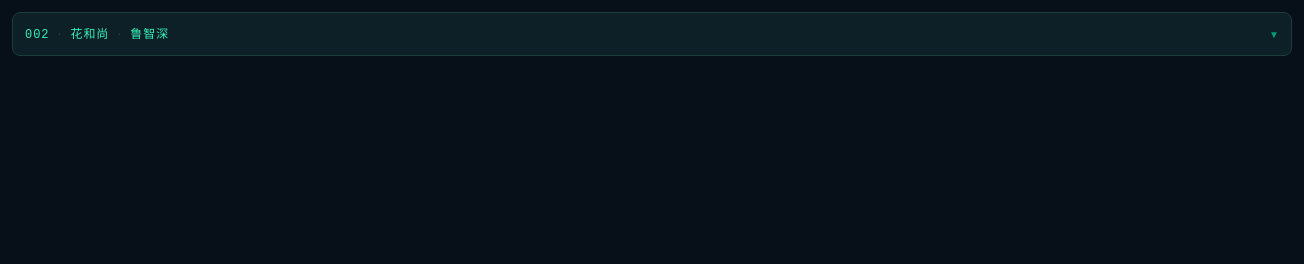
Test: CharacterListbox keyboard interaction › 可以按中文或拼音搜索卡片
The width and height of the screenshot is (1304, 264).
Step 1. Click the button with aria-label "选择卡片" → point(90, 34), box [12,12,1292,56]
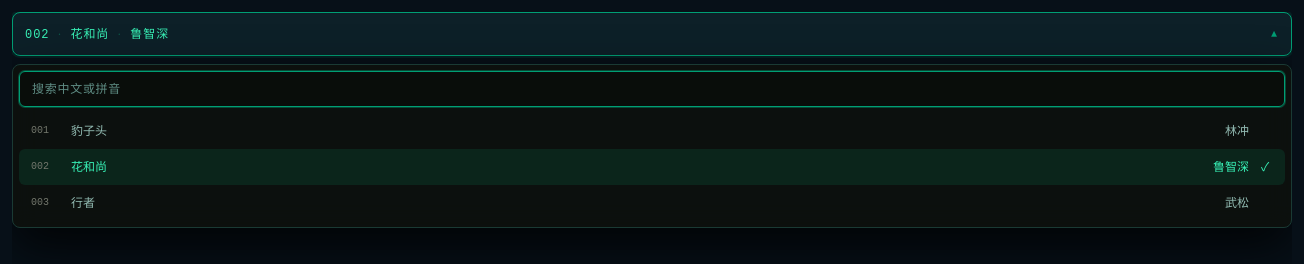
Step 2. Type "wusong" into the search field named "搜索卡片" → point(652, 89), box [19,71,1285,107]
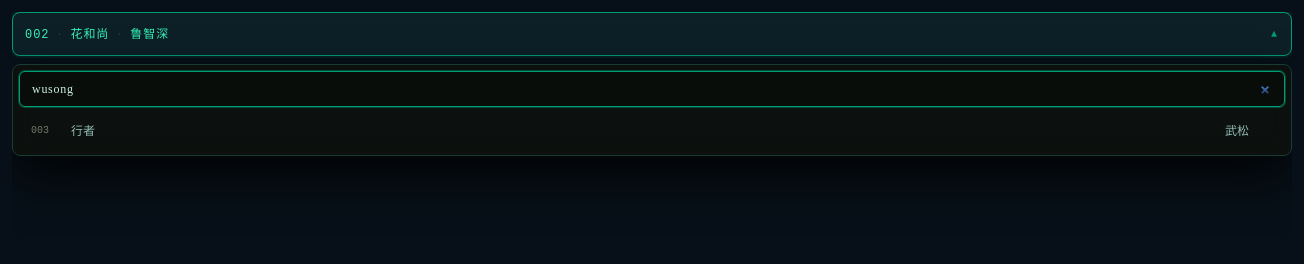
Expected: the number of options is 1, [19,113,1285,149]
Step 3. Replace the text in the search field named "搜索卡片" with "豹子头" → point(652, 89), box [19,71,1285,107]
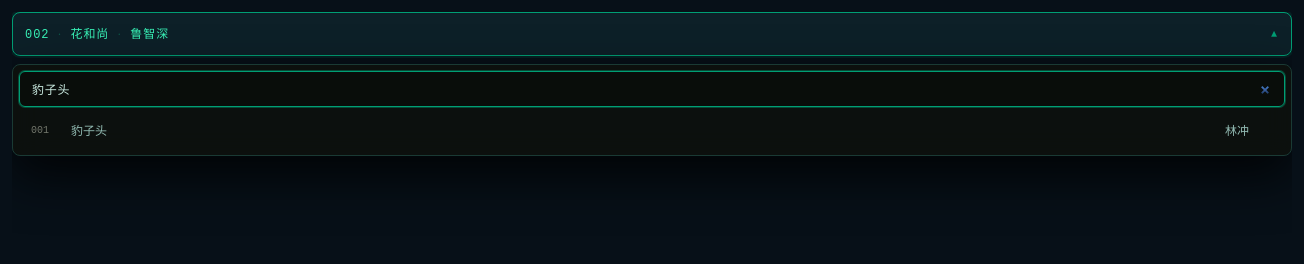
Expected: the number of options is 1, [19,113,1285,149]
